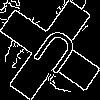U: (25, 25, 81, 84)
